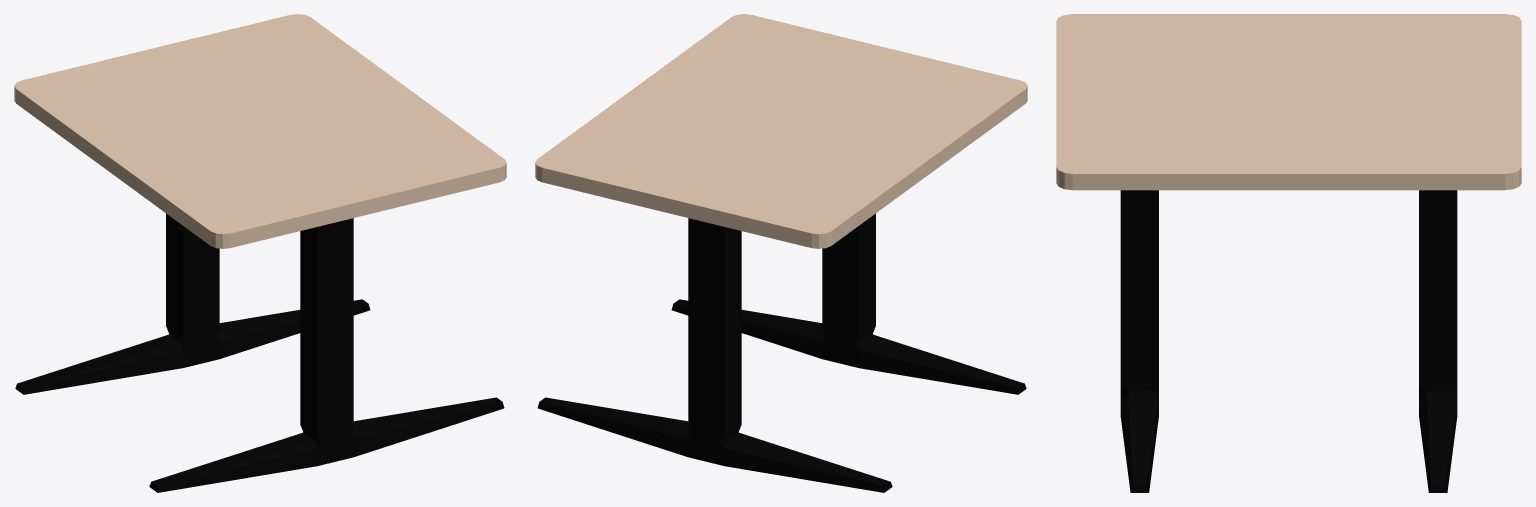
Rendered from classroom_table.glb.
3 views of the same model, side by side, from view 1: azimuth 30°, elevation 25°; view 2: azimuth 150°, elevation 25°; view 3: azimuth 270°, elevation 25° (orthographic). The views are drawn at different scales.
Visible parts, largest first — view 1: Cube.003; view 2: Cube.003; view 3: Cube.003.
Boxes of the visible parts, left/top/right/bottom form: Cube.003: left=14, top=14, right=506, bottom=492; Cube.003: left=535, top=14, right=1027, bottom=492; Cube.003: left=1056, top=14, right=1521, bottom=492.
Size of the model in its own units: 328 by 255 by 343.
